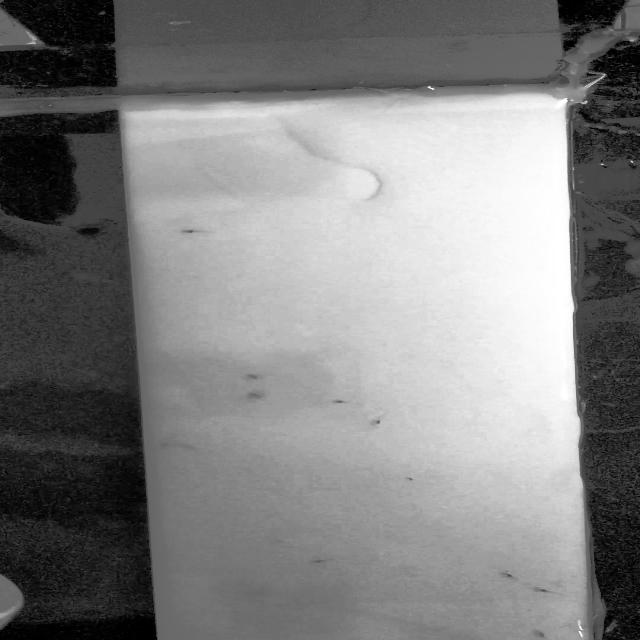shrimp: (173, 226, 213, 242), (295, 554, 343, 567), (530, 585, 566, 600), (238, 370, 267, 388), (491, 568, 518, 582), (525, 628, 555, 640), (238, 391, 270, 402), (362, 415, 389, 428), (398, 475, 422, 487), (327, 396, 350, 408)
